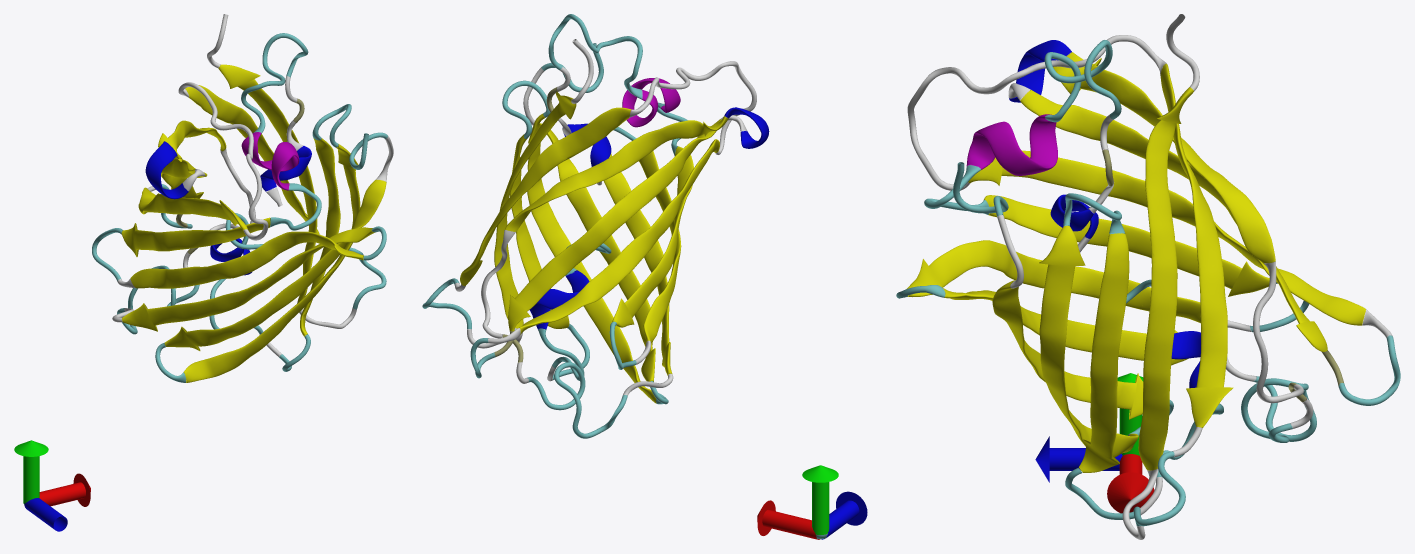
The model's file is proteina_min.glb.
3 views of the same model, side by side, from view 1: azimuth 30°, elevation 25°; view 2: azimuth 150°, elevation 25°; view 3: azimuth 270°, elevation 25° (orthographic). The views are drawn at different scales.
Parts seen in each view (by area): view 1: Object_18, Object_17, Object_16, Object_20, Object_19, Object_7, Object_27, Object_6, Object_3, Object_10, Object_25, Object_28 (+3 smaller); view 2: Object_16, Object_19, Object_17, Object_18, Object_20, Object_7, Object_27, Object_6, Object_3, Object_28, Object_25, Object_4 (+3 smaller); view 3: Object_19, Object_16, Object_18, Object_17, Object_27, Object_20, Object_7, Object_6, Object_10, Object_3, Object_28, Object_4 (+4 smaller).
Boxes of the visible parts, x1,y1,x2,y2 form: Object_18: (121,187,363,288); Object_17: (122,120,374,331); Object_16: (161,138,360,382); Object_20: (164,64,386,350); Object_19: (142,85,318,302); Object_7: (155,33,387,382); Object_27: (178,14,393,356); Object_6: (92,80,386,334); Object_3: (145,141,311,275); Object_10: (241,132,299,190); Object_25: (14,440,48,503); Object_28: (112,76,302,322); Object_16: (510,113,656,403); Object_19: (460,107,719,331); Object_17: (505,116,728,375); Object_18: (508,146,693,343); Object_20: (494,91,655,381); Object_7: (422,14,668,409); Object_27: (454,39,756,381); Object_6: (538,36,687,438); Object_3: (529,107,769,329); Object_28: (488,66,747,395); Object_25: (802,465,838,534); Object_4: (757,500,819,539); Object_19: (968,63,1365,470); Object_16: (1039,154,1294,472); Object_18: (907,195,1365,351); Object_17: (942,52,1275,365); Object_27: (907,14,1308,539); Object_20: (992,87,1193,470); Object_7: (953,40,1400,526); Object_6: (896,52,1316,477); Object_10: (966,114,1057,175); Object_3: (1009,40,1200,388); Object_28: (1008,83,1392,428); Object_4: (1107,454,1154,513).
Bounding box in the file's own units: 1.58 × 1.76 × 1.32.
